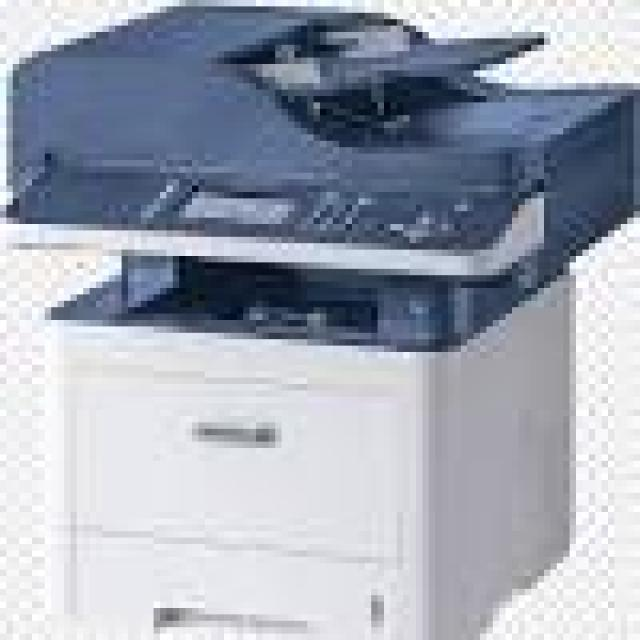printer: (2, 0, 638, 638)
